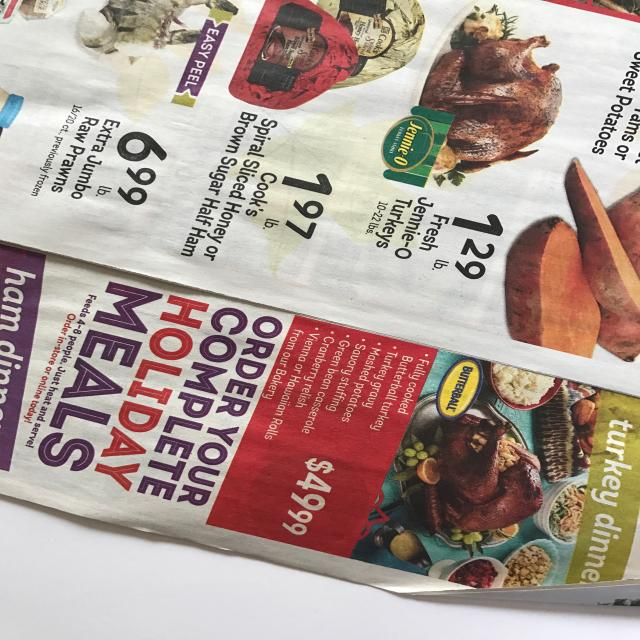paper: (1, 1, 639, 612)
